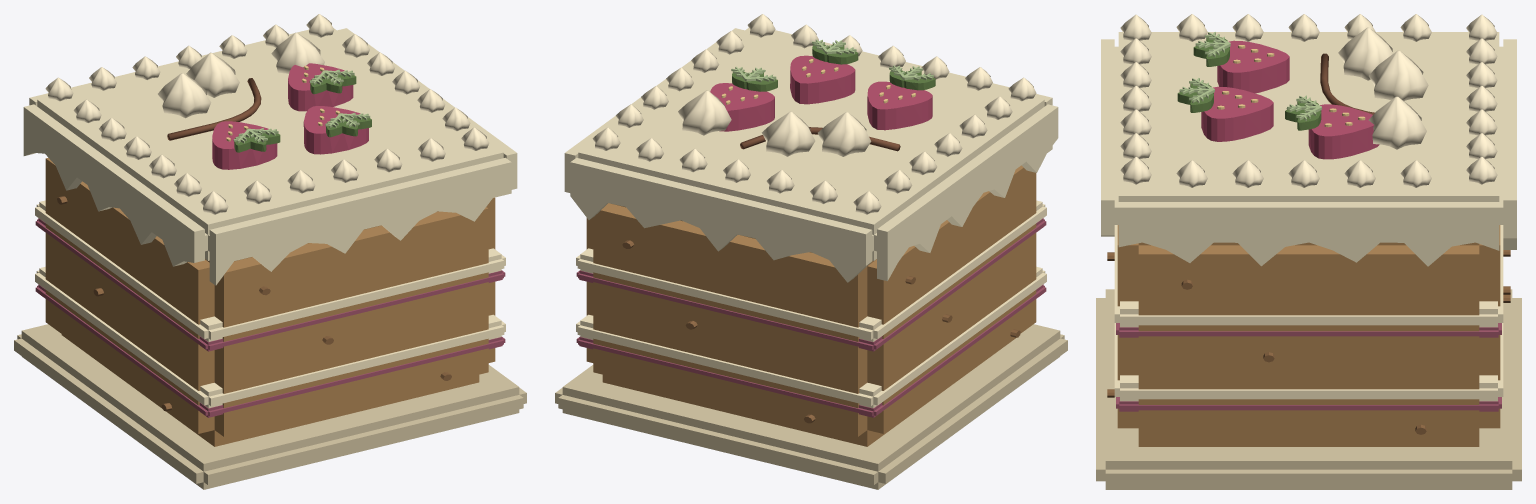
Rendered from crate_bolo.fbx.
The picture shows the model from 3 angles, left to right: view 1: azimuth 30°, elevation 25°; view 2: azimuth 150°, elevation 25°; view 3: azimuth 270°, elevation 25°; orthographic projection. The views are drawn at different scales.
Parts seen in each view (by area): view 1: crate_bolo_caixa; view 2: crate_bolo_caixa; view 3: crate_bolo_caixa.
Part boxes in pixels (<box>): crate_bolo_caixa: <box>14,14,526,489</box>; crate_bolo_caixa: <box>555,14,1067,489</box>; crate_bolo_caixa: <box>1096,14,1521,489</box>.
Size of the model in its own units: 2.66 by 2.36 by 2.66.
Materials: 1 (1 with a texture image).
